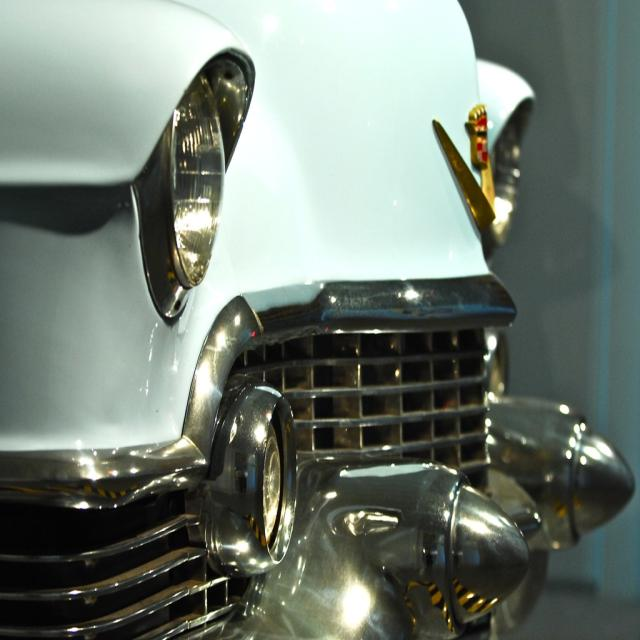car: (29, 16, 586, 637)
